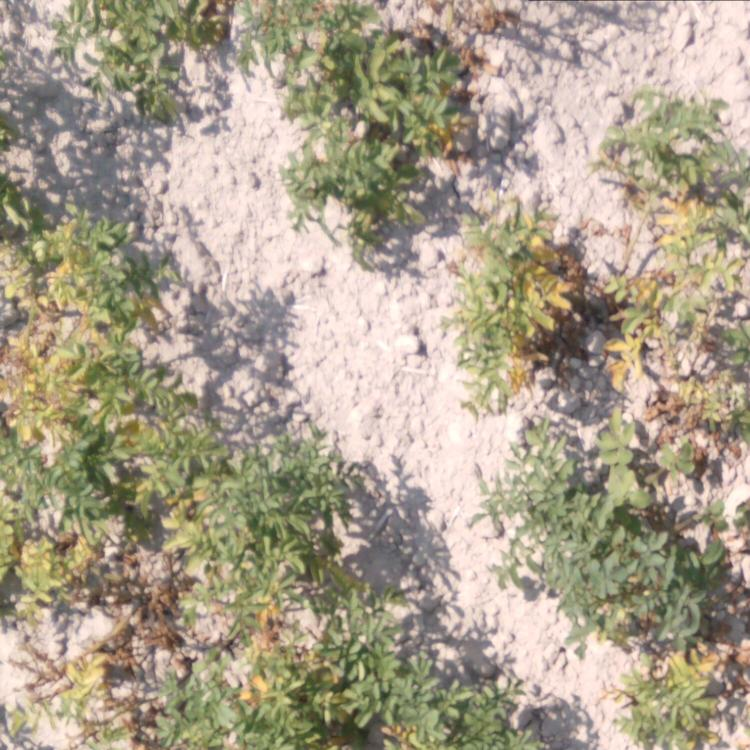healthy: (494, 448, 722, 627), (74, 1, 215, 121)
stressed: (40, 598, 533, 745), (1, 344, 179, 580), (261, 1, 455, 196), (183, 431, 365, 583), (606, 270, 750, 448), (451, 204, 573, 392), (1, 198, 156, 338), (619, 108, 750, 253), (583, 638, 739, 750)
